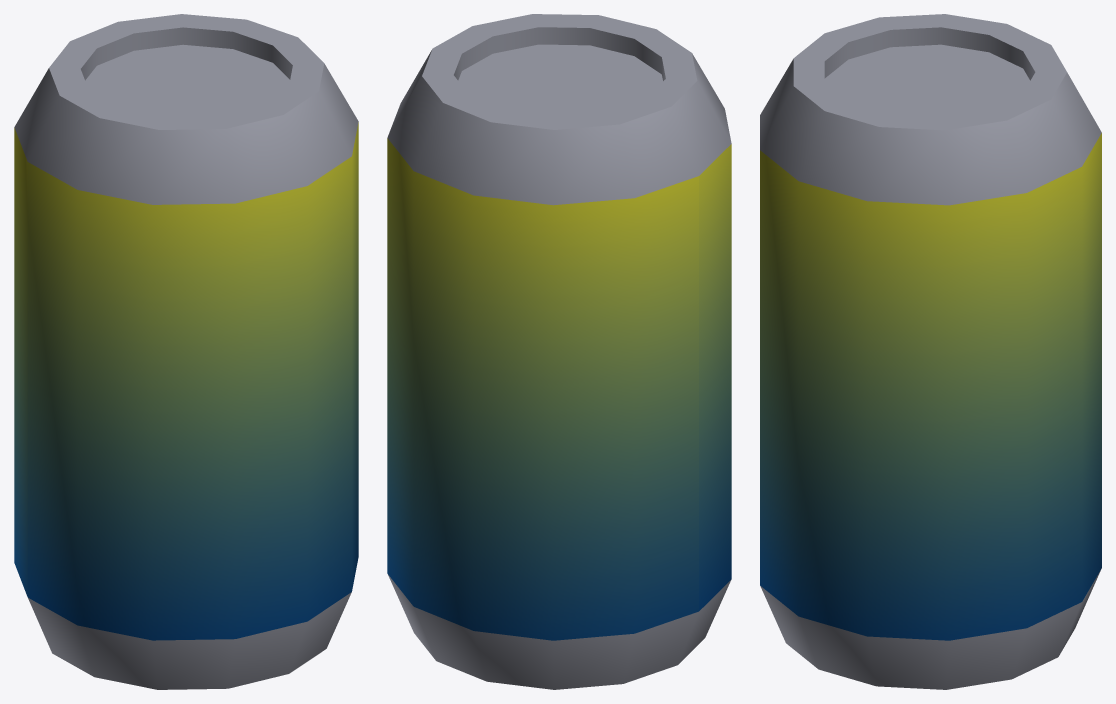
The model's file is EnergyCan_01.fbx.
The picture shows the model from 3 angles, left to right: view 1: azimuth 30°, elevation 25°; view 2: azimuth 150°, elevation 25°; view 3: azimuth 270°, elevation 25°; orthographic projection.
Visible parts, largest first — view 1: Can; view 2: Can; view 3: Can.
Part boxes in pixels (x1=…): Can: x1=14, y1=14, x2=358, y2=689; Can: x1=387, y1=14, x2=731, y2=689; Can: x1=760, y1=14, x2=1101, y2=689.
Size of the model in its own units: 4.34 by 7.73 by 4.31.
